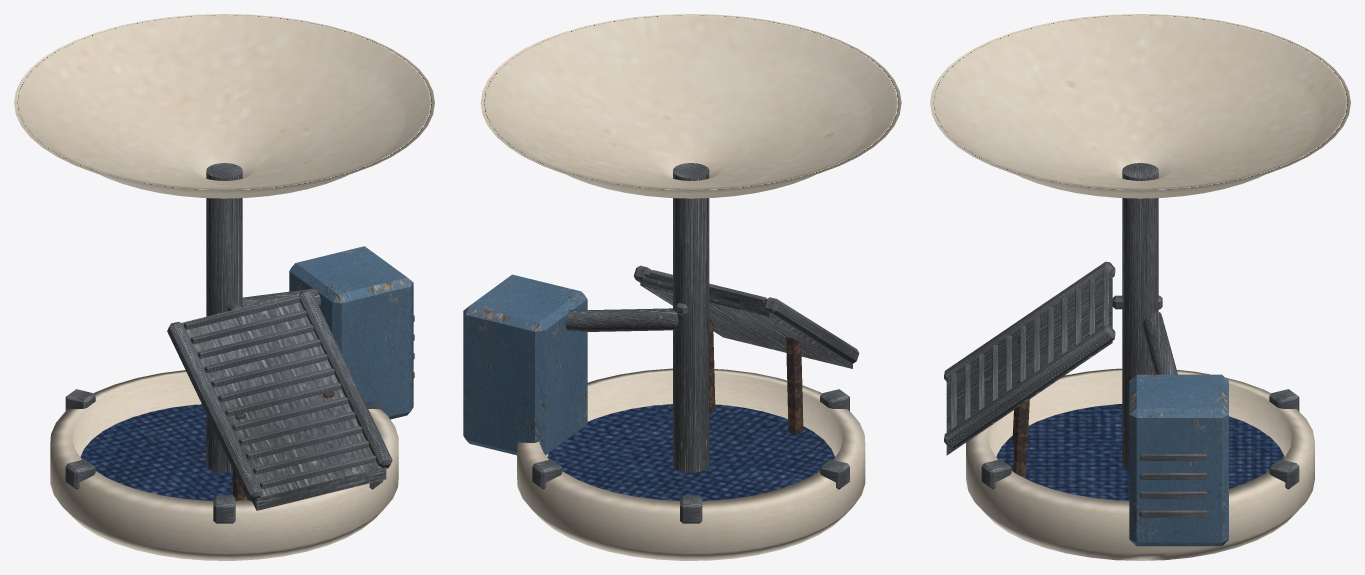
The model's file is revised-10-02.glb.
3 renders of one model, left to right at view 1: azimuth 30°, elevation 25°; view 2: azimuth 150°, elevation 25°; view 3: azimuth 270°, elevation 25°, orthographic.
Parts seen in each view (by area): view 1: mushroom_wash; view 2: mushroom_wash; view 3: mushroom_wash.
Boxes of the visible parts, x1,y1,x2,y2 form: mushroom_wash: (14, 14, 434, 560); mushroom_wash: (463, 14, 901, 560); mushroom_wash: (930, 14, 1350, 560).
Bounding box in the file's own units: 1.55 × 1.55 × 1.52.
2 materials, 2 textured.
